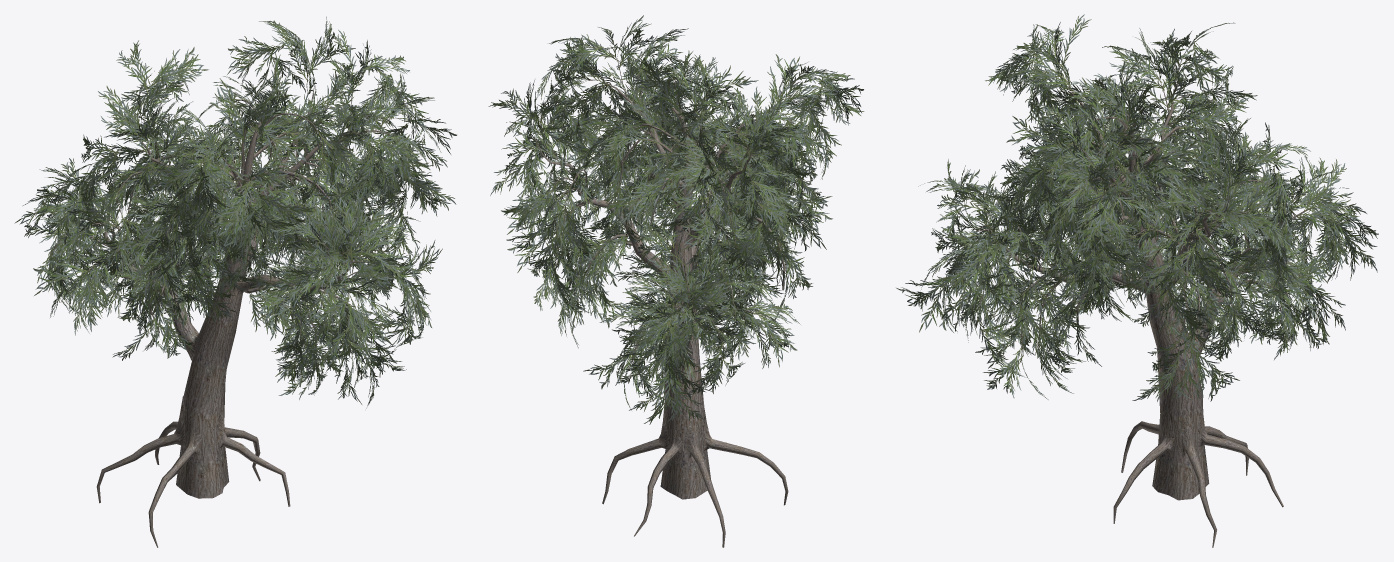
The model's file is saule.glb.
3 views of the same model, side by side, from view 1: azimuth 30°, elevation 25°; view 2: azimuth 150°, elevation 25°; view 3: azimuth 270°, elevation 25° (orthographic). The views are drawn at different scales.
Parts seen in each view (by area): view 1: SilverWillow_LOD0_M_Branch_0, SilverWillow_LOD0_M_Bark_0; view 2: SilverWillow_LOD0_M_Branch_0, SilverWillow_LOD0_M_Bark_0; view 3: SilverWillow_LOD0_M_Branch_0, SilverWillow_LOD0_M_Bark_0.
Part boxes in pixels (bbox=[...]): SilverWillow_LOD0_M_Branch_0: bbox=[14, 16, 456, 408]; SilverWillow_LOD0_M_Bark_0: bbox=[50, 59, 415, 547]; SilverWillow_LOD0_M_Branch_0: bbox=[488, 15, 864, 424]; SilverWillow_LOD0_M_Bark_0: bbox=[535, 46, 814, 547]; SilverWillow_LOD0_M_Branch_0: bbox=[896, 14, 1378, 401]; SilverWillow_LOD0_M_Bark_0: bbox=[945, 48, 1336, 547].
Bounding box in the file's own units: 11.65 × 15.24 × 14.07.
Materials: 2 (2 with a texture image).
